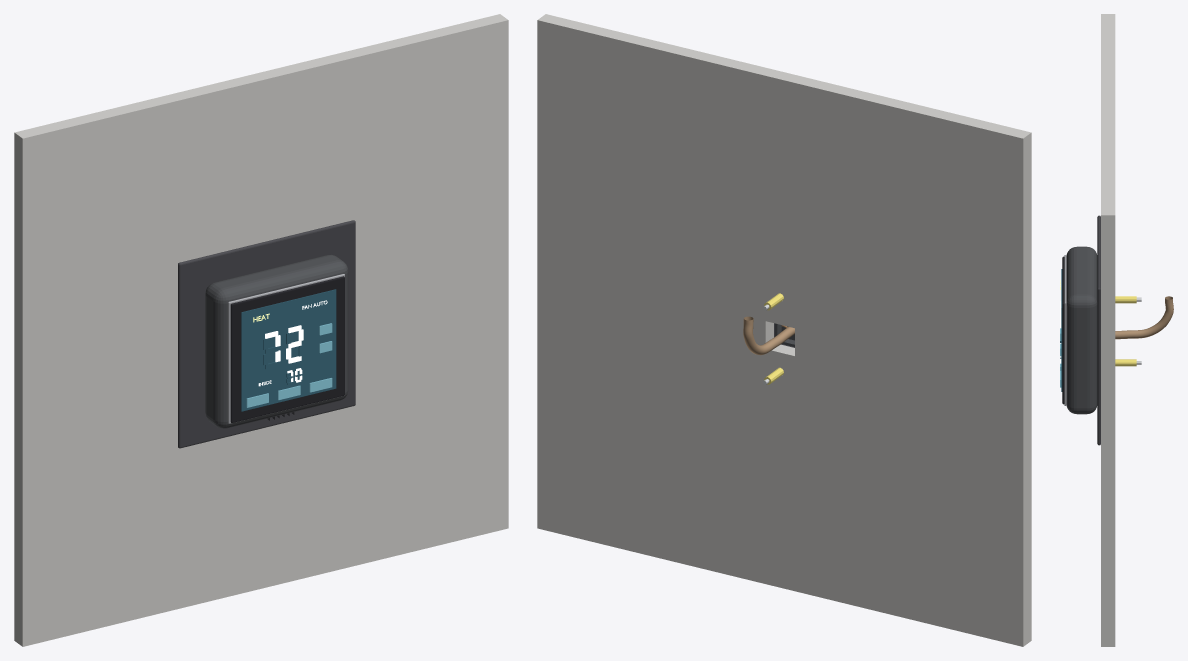
Rendered from thermostat_smart_ecobee.glb.
The picture shows the model from 3 angles, left to right: view 1: azimuth 30°, elevation 25°; view 2: azimuth 150°, elevation 25°; view 3: azimuth 270°, elevation 25°; orthographic projection. The views are drawn at different scales.
Visible parts, largest first — view 1: ctx_wall, sub_trim, head_screen, head_shell, head_glass, head_bezel; view 2: ctx_wall, cable_jacket; view 3: ctx_wall, head_shell, sub_trim, cable_jacket, head_bezel, head_glass, head_screen.
Part boxes in pixels (left/top/right/bottom): ctx_wall: left=14, top=14, right=508, bottom=646; sub_trim: left=178, top=220, right=355, bottom=448; head_screen: left=241, top=289, right=336, bottom=411; head_shell: left=205, top=255, right=348, bottom=428; head_glass: left=230, top=276, right=344, bottom=422; head_bezel: left=228, top=274, right=344, bottom=423; ctx_wall: left=537, top=14, right=1031, bottom=646; cable_jacket: left=743, top=316, right=794, bottom=355; ctx_wall: left=1101, top=14, right=1115, bottom=646; head_shell: left=1066, top=246, right=1097, bottom=414; sub_trim: left=1097, top=215, right=1100, bottom=445; cable_jacket: left=1115, top=296, right=1173, bottom=339; head_bezel: left=1064, top=255, right=1066, bottom=405; head_glass: left=1062, top=256, right=1064, bottom=404; head_screen: left=1061, top=269, right=1062, bottom=391.
Bounding box in the file's own units: 0.3999 × 0.3999 × 0.0954.
